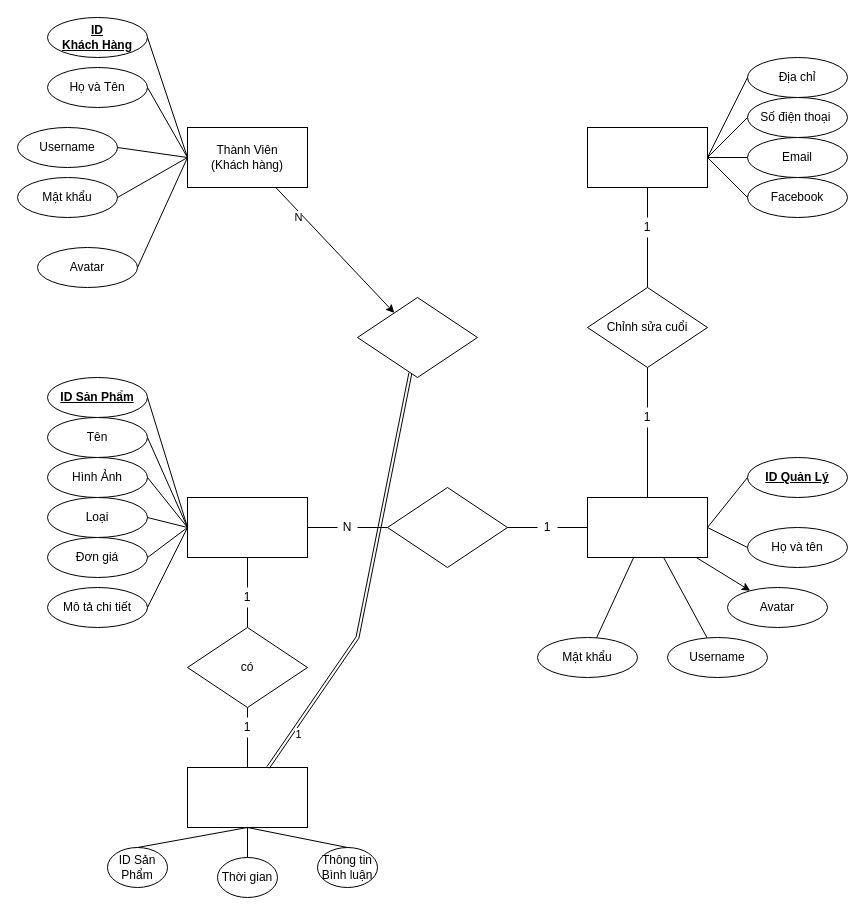
This 865x915 diagram has some shape labels left out. The shapes that lost their labels are listed below. From the top down, each one's box as (x1, y1, x2, y2) in pixels, then its label:
(586, 126, 708, 188): Liên hệ
(356, 296, 478, 378): Bình luận
(186, 496, 308, 558): Sản phẩm
(386, 486, 508, 568): Chỉnh sửa cuối
(586, 496, 708, 558): Quản lý
(186, 766, 308, 828): Bình Luận
